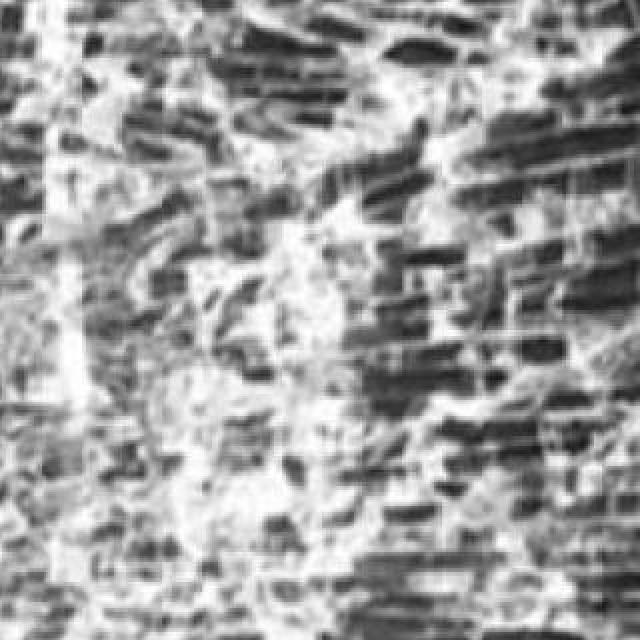Physical-damage: (8, 10, 636, 640)
